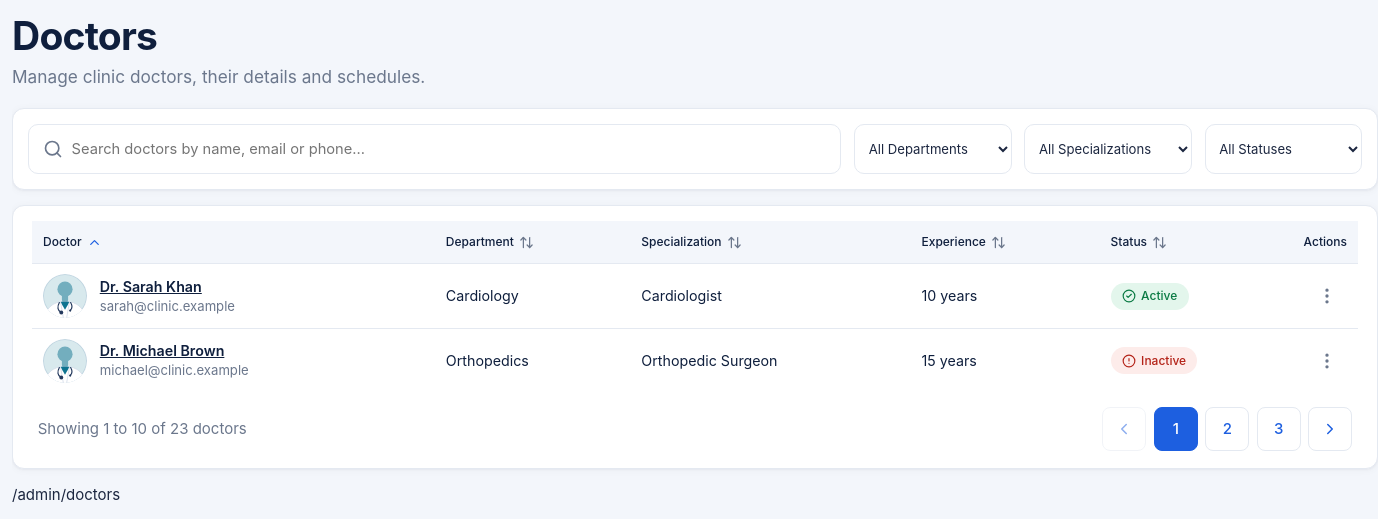
Test: Actions › a read-only viewer only views
Click the button named "Actions for Dr. Sarah Khan".
click(1327, 296)  # box [1307,276,1347,316]
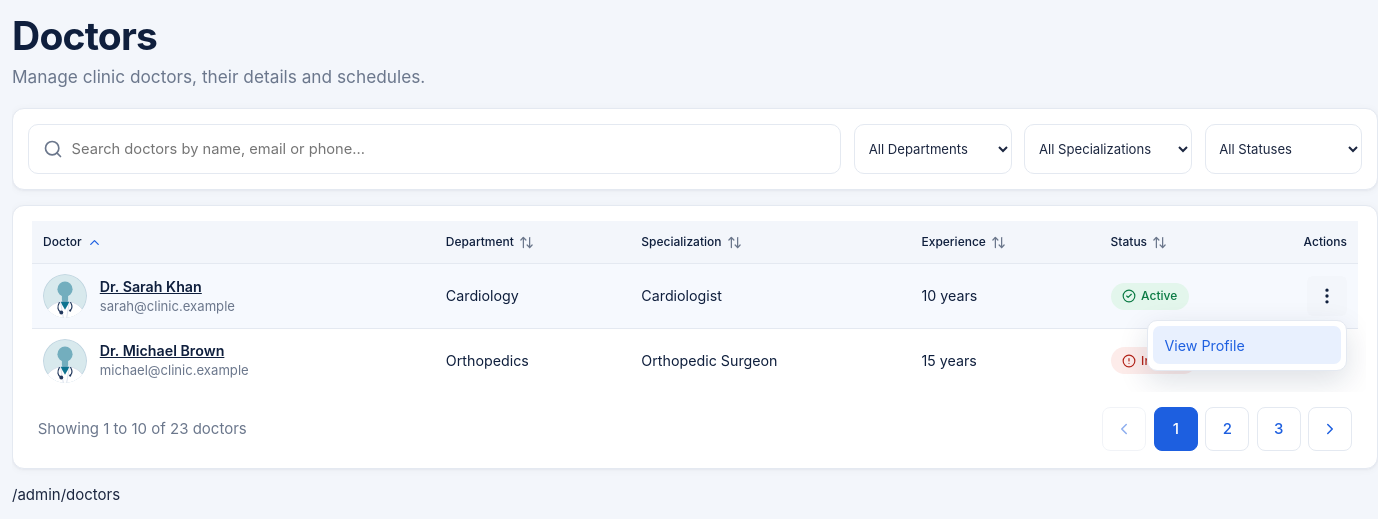
Now the menu items read "View Profile", in this order, box [1153,326,1341,364]
